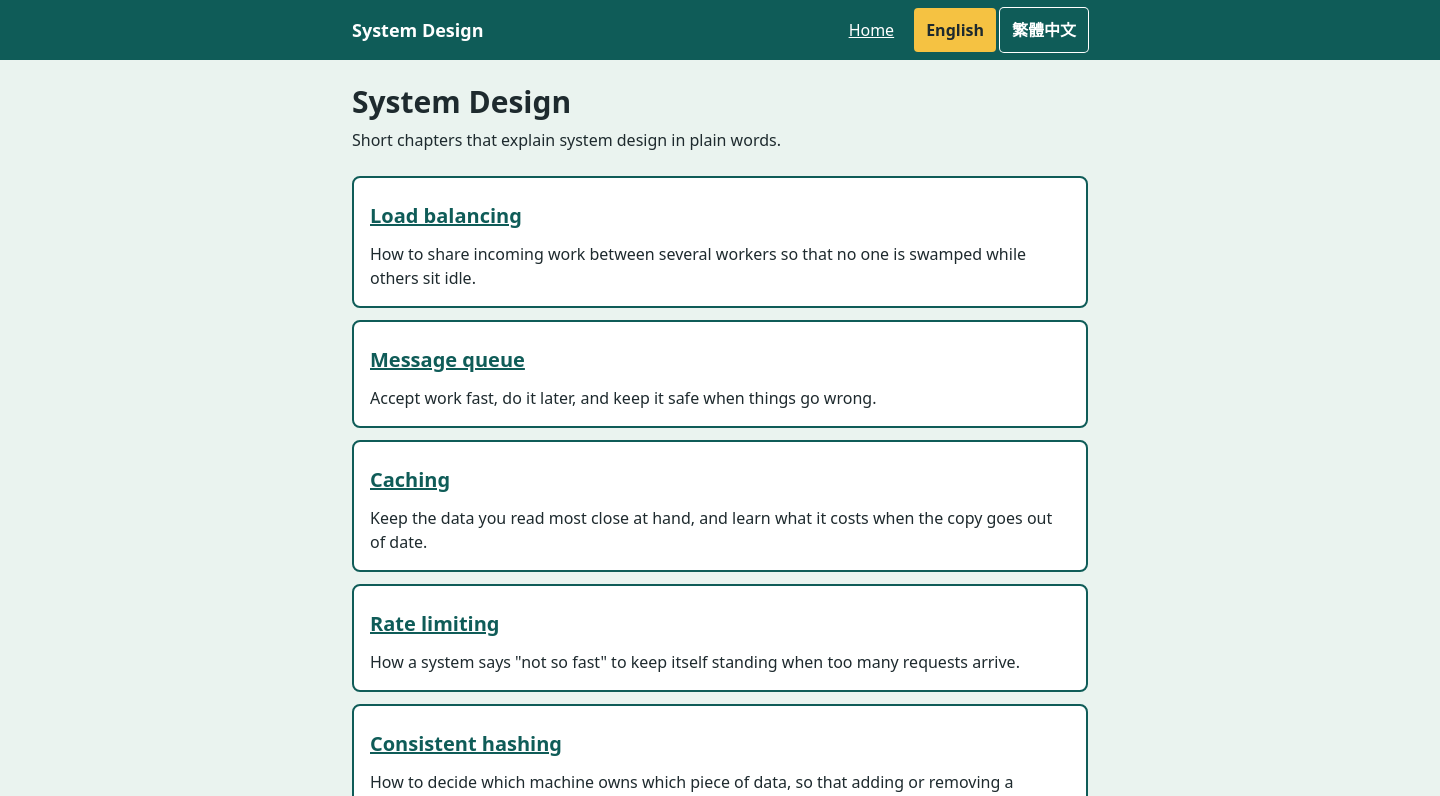
Test: App › T3: switching to Chinese changes text and lang
Click the button "繁體中文" at (1044, 30), box top-left (1000, 8), bottom-right (1088, 52)
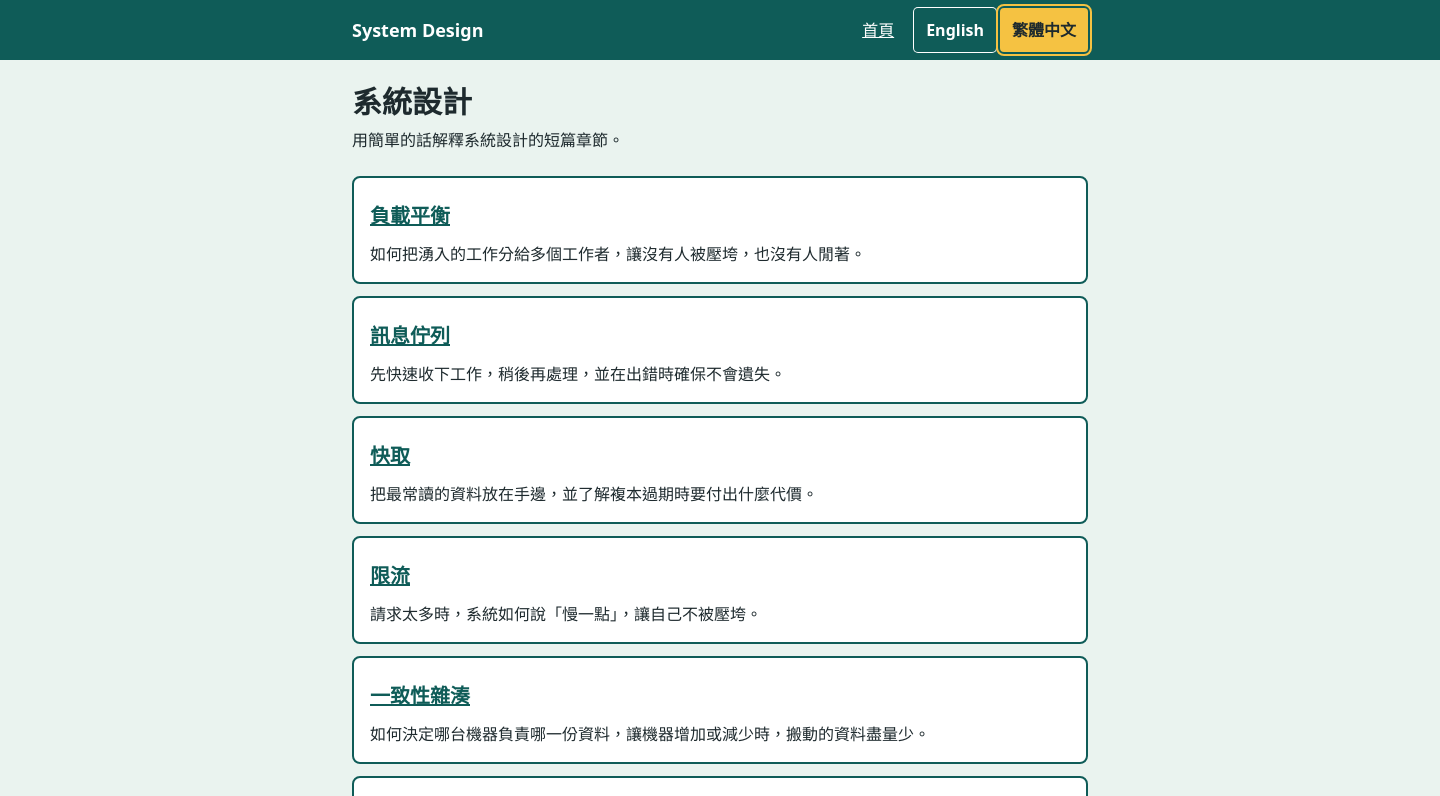
Expected: the heading "系統設計" is shown, top-left (352, 81), bottom-right (472, 122)
